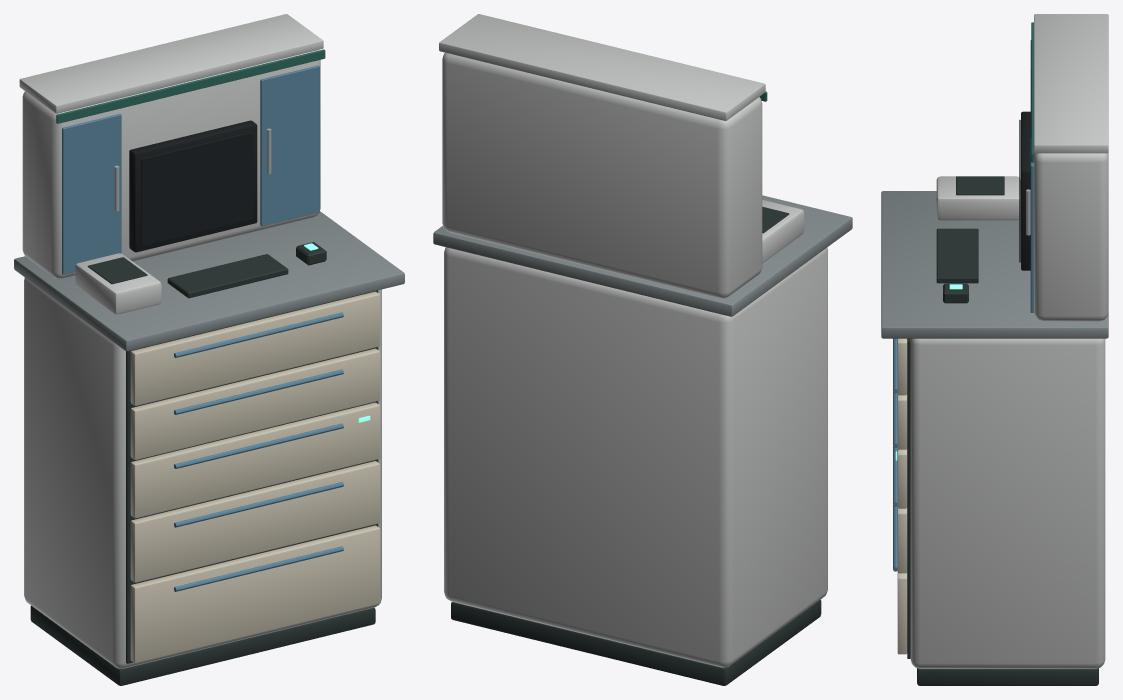
Rendered from medication-cabinet.glb.
3 views of the same model, side by side, from view 1: azimuth 30°, elevation 25°; view 2: azimuth 150°, elevation 25°; view 3: azimuth 270°, elevation 25° (orthographic). The views are drawn at different scales.
Visible parts, largest first — view 1: medication-cabinet; view 2: medication-cabinet; view 3: medication-cabinet.
Part boxes in pixels (x1,y1,x2,y2): medication-cabinet: (14,14,404,685); medication-cabinet: (433,14,852,685); medication-cabinet: (881,14,1108,685).
Bounding box in the file's own units: 1 × 1.85 × 0.7.
